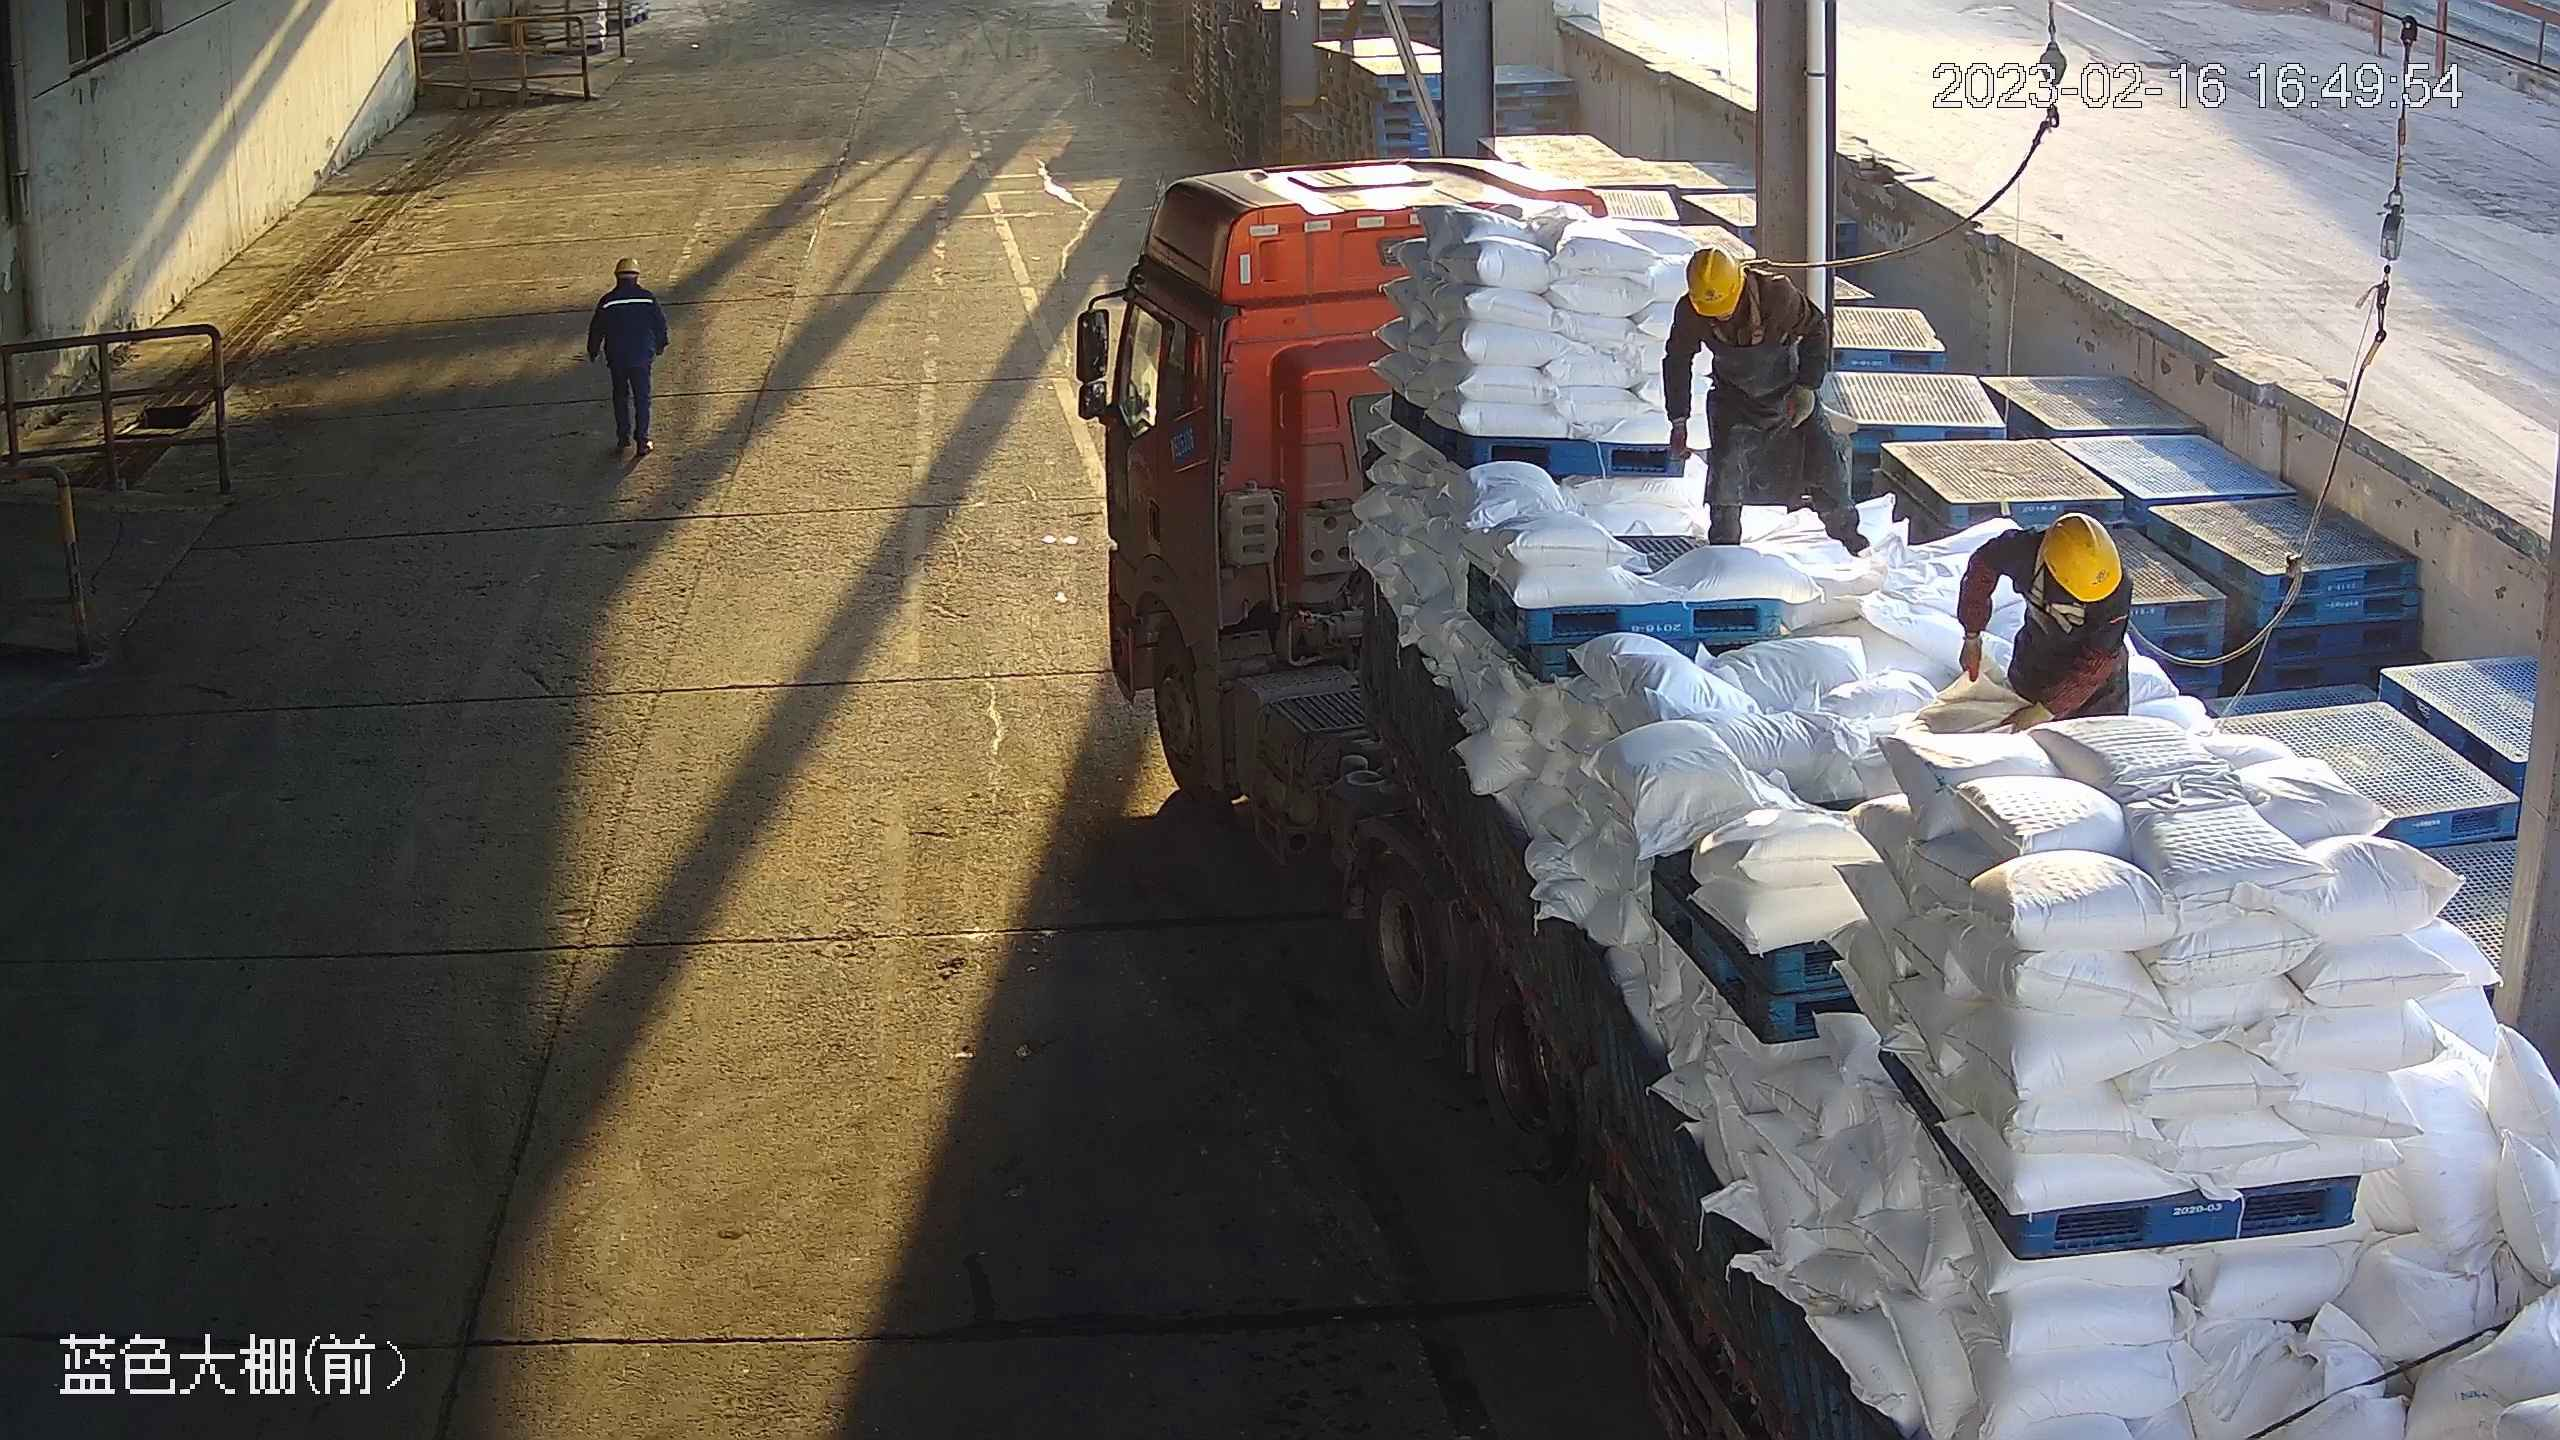belt: (2022, 540, 2085, 634), (1709, 273, 1763, 347)
head: (2000, 511, 2134, 605), (1670, 249, 1793, 330), (598, 258, 656, 316)
helmet: (2041, 512, 2123, 601), (1685, 247, 1746, 319), (613, 257, 641, 276)
people: (1659, 247, 1872, 558), (1955, 510, 2135, 734), (586, 257, 671, 457)
truck: (1070, 149, 2560, 1440)
